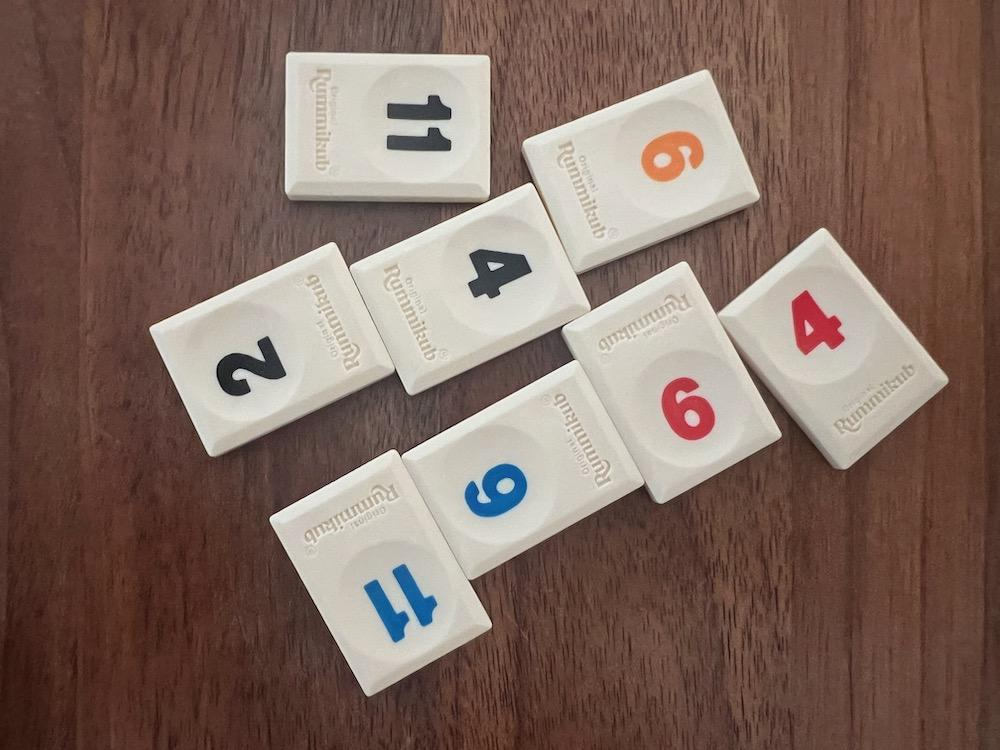black_11: (285, 54, 490, 203)
black_2: (152, 244, 395, 457)
black_4: (352, 184, 590, 395)
blue_11: (272, 451, 490, 695)
blue_6: (402, 361, 643, 580)
orange_6: (523, 70, 760, 273)
red_4: (719, 229, 947, 469)
red_9: (562, 262, 781, 502)
